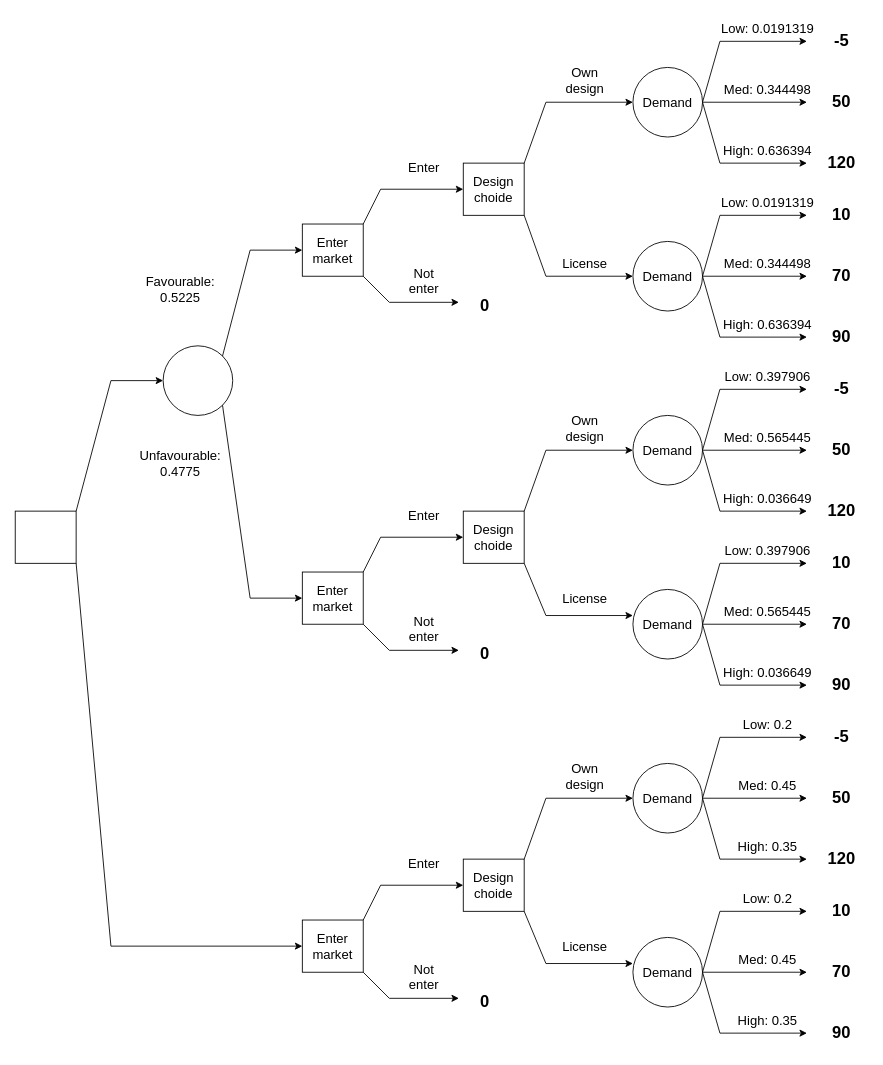
The diagram is 883 pixels wide and 1065 high, and some of its shapes have lost their labels. Here are the shapes that lost their labels. From the top down, the centre of each, then its label:
At point (197, 380): "Market study result".
At point (45, 536): "Market study".
